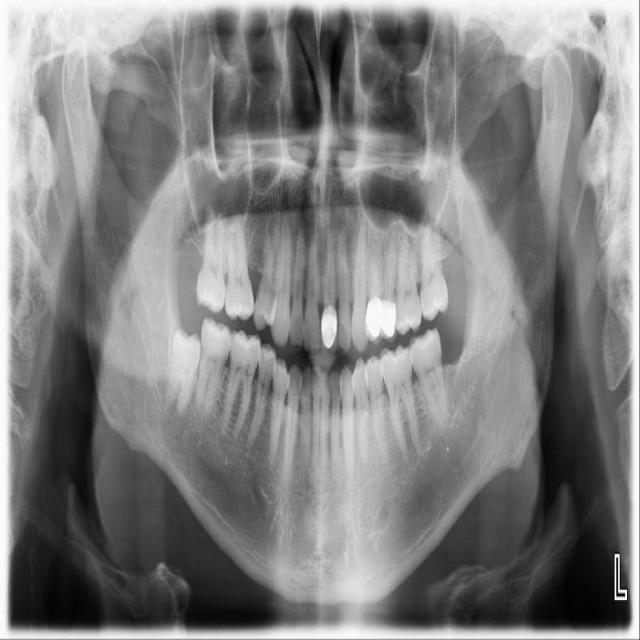Crown: (364, 296, 397, 344), (322, 300, 339, 348)
impacted tooth: (158, 328, 201, 414)
